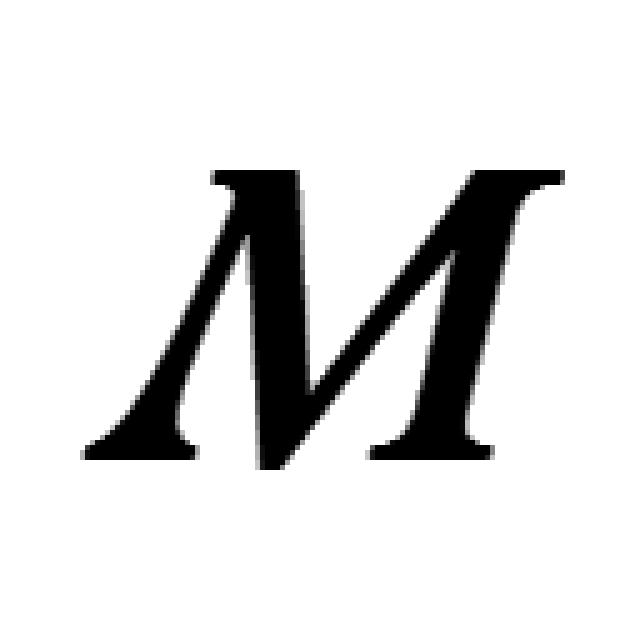M: (77, 165, 558, 472)
